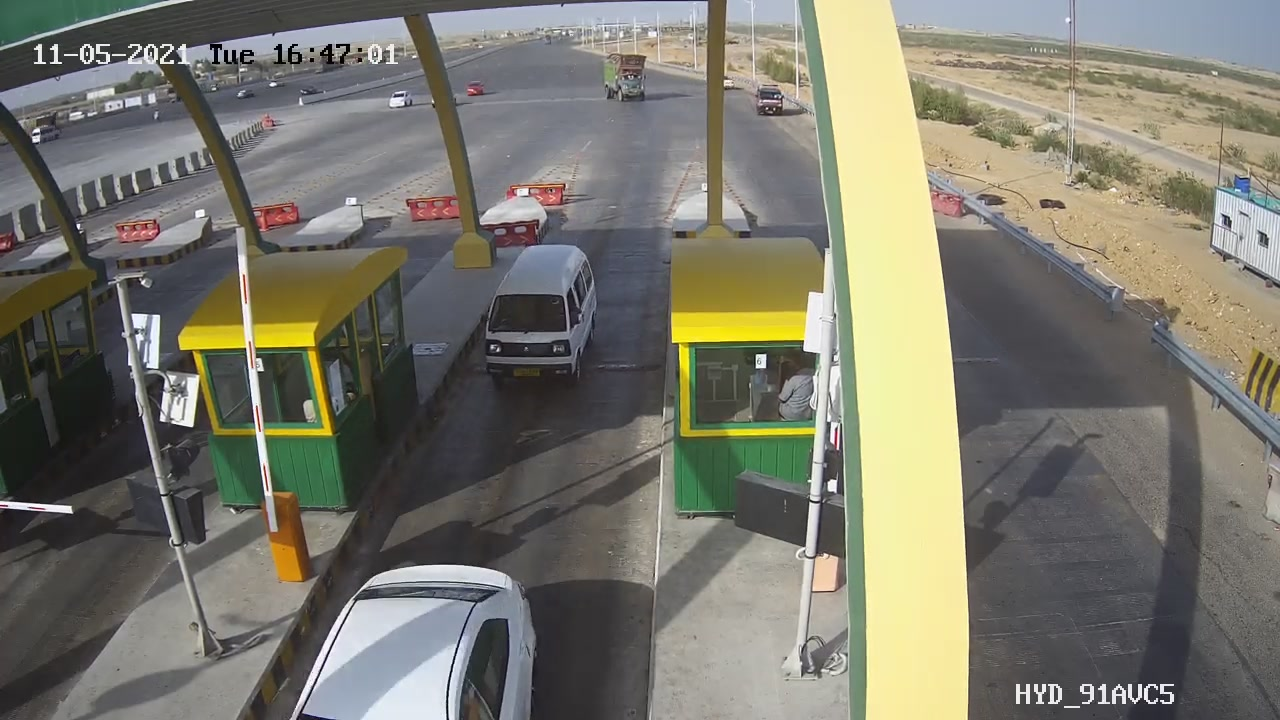F1: (455, 227, 624, 405)
